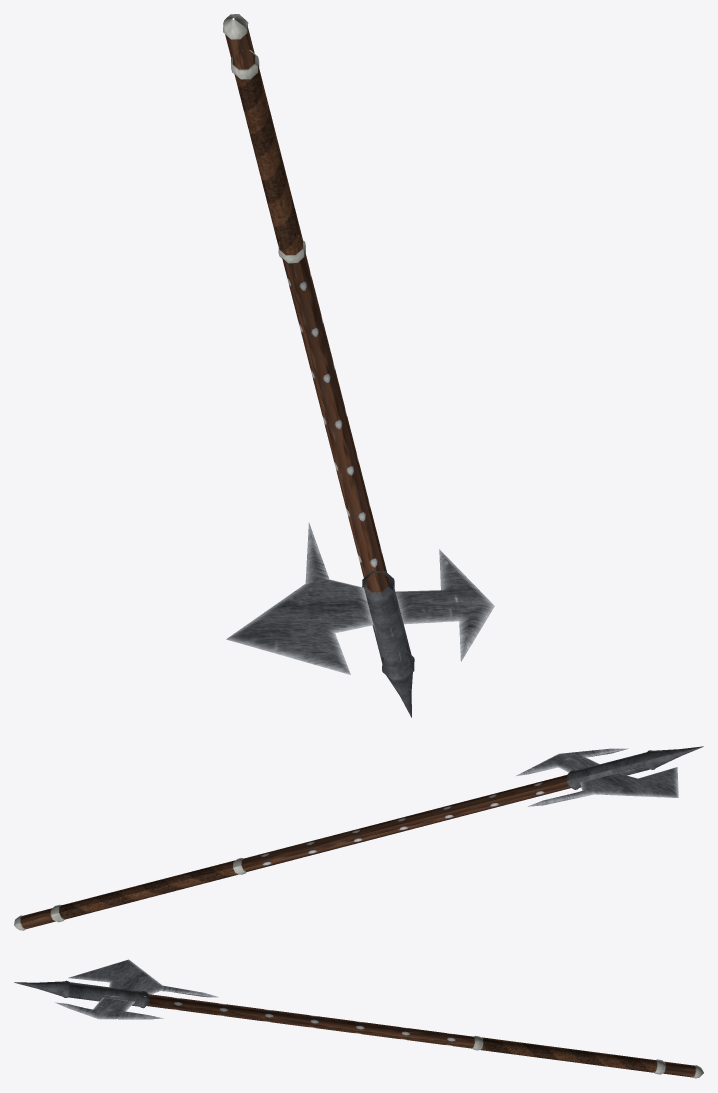
File: mm9_guard_halberd2.glb
3 views of the same model, one above another, from view 1: azimuth 30°, elevation 25°; view 2: azimuth 150°, elevation 25°; view 3: azimuth 270°, elevation 25° (orthographic). The views are drawn at different scales.
Parts seen in each view (by area): view 1: Xbase; view 2: Xbase; view 3: Xbase.
Part boxes in pixels (box(x1,y1,x2,y2)): Xbase: box(223, 14, 494, 717); Xbase: box(14, 746, 703, 930); Xbase: box(14, 959, 703, 1078).
Size of the model in its own units: 0.9241 by 0.1338 by 1.88.
Materials: 1 (1 with a texture image).
